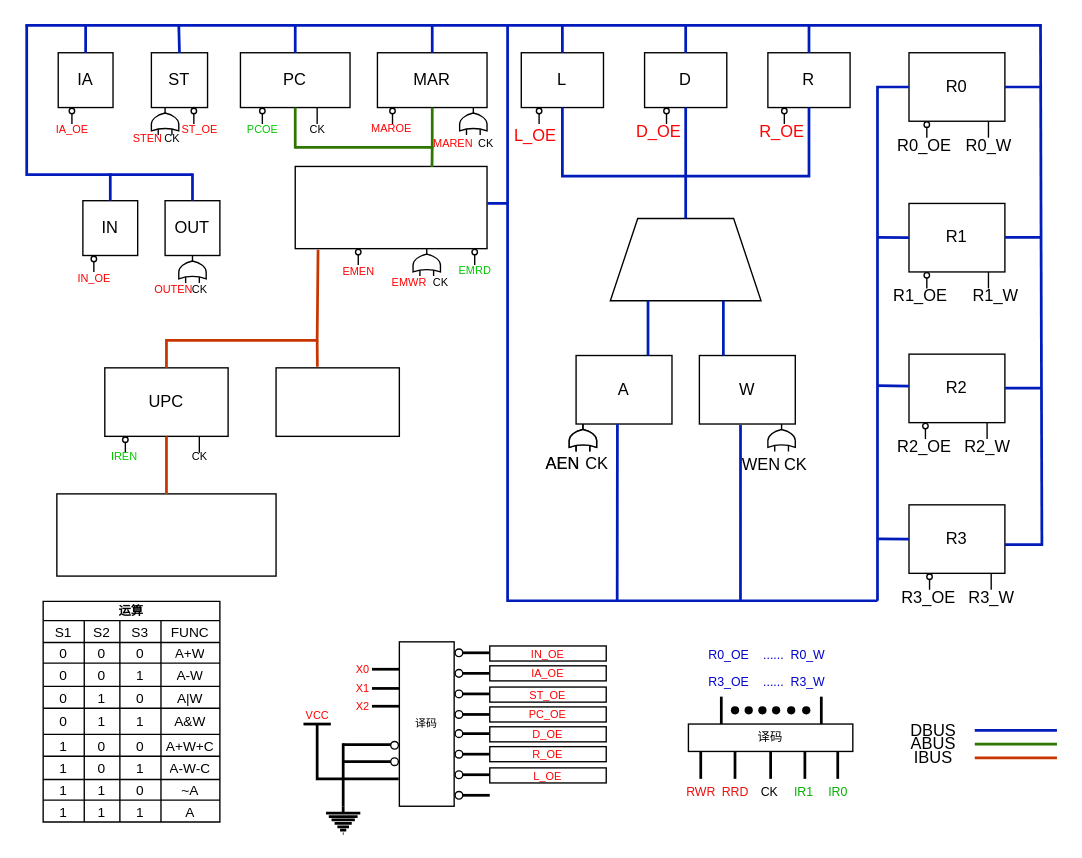
Image size: 1082x858. Some labels were removed from this diagram. The centre of each missing label's shape, as x and y in pixels:
"ALU" belongs at point (685, 259).
"EM" belongs at point (390, 207).
"IR" belongs at point (337, 401).
"uM" belongs at point (165, 534).
